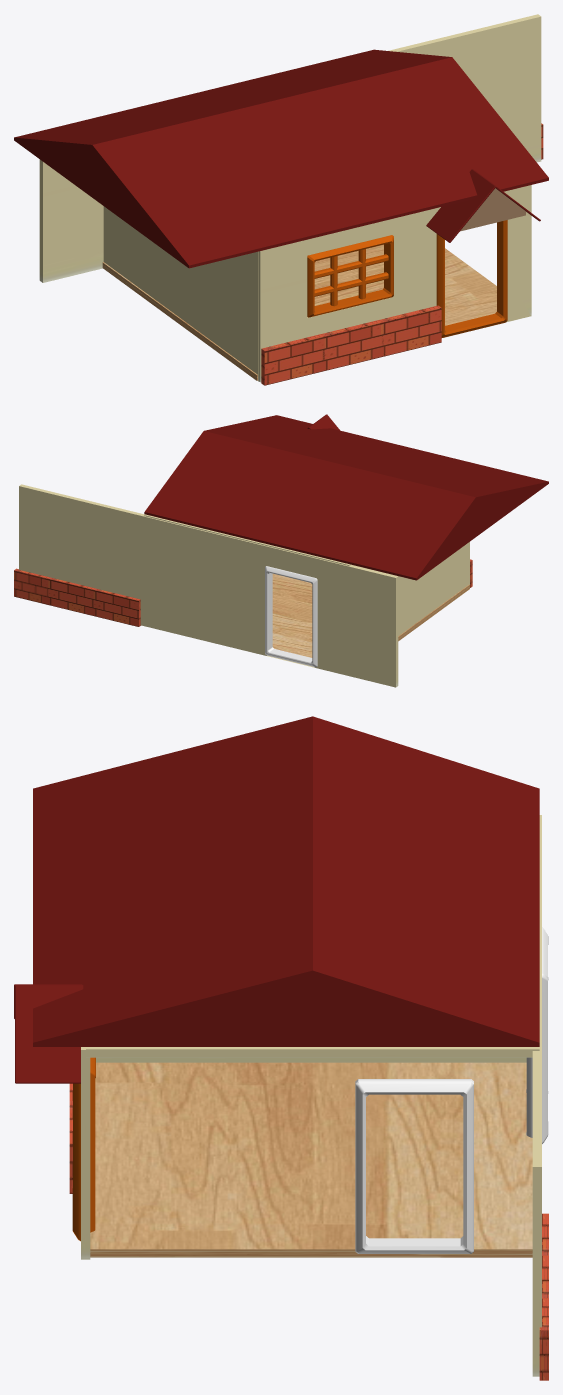
File: casa4.obj
3 views of the same model, one above another, from view 1: azimuth 30°, elevation 25°; view 2: azimuth 150°, elevation 25°; view 3: azimuth 270°, elevation 25° (orthographic). The views are drawn at different scales.
Parts seen in each view (by area): view 1: pasted__pasted__pCube3 pasted__group61 group68, pasted__pCube1 group1, pasted__pCube2 group8, pasted__pCube2 group4, group95_pasted__group73_pasted__pasted__pCube11, pCube3, pCube7, pasted__pCube1 group3, polySurface3 pasted__pasted__polySurface2 group105, pasted__pCube14 group106; view 2: pasted__pasted__pCube3 pasted__group61 group68, pasted__pCube2 group8, pCube3, pasted__pCube2 group4, pasted__pasted__pasted__pCube1 pasted__pasted__group3 pasted__gr, polySurface42 polySurface45, polySurface44 polySurface42, polySurface42 polySurface43, pasted__pCube3 group61; view 3: pasted__pasted__pCube3 pasted__group61 group68, pCube3, pasted__pasted__pCube1 pasted__group3 group7, pasted__pCube3 group61, pasted__pasted__polySurface2 group105 polySurface4, pasted__pCube2 group8, pasted__pCube2 group4, pasted__pCube1 group3, pasted__pCube1 group1, pasted__pasted__pasted__pCube1 pasted__pasted__group3 pasted__gr.
Part boxes in pixels (x1,y1,x2,y2): pasted__pasted__pCube3 pasted__group61 group68: (14,49,548,268); pasted__pCube1 group1: (259,185,531,382); pasted__pCube2 group8: (39,14,541,282); pasted__pCube2 group4: (103,206,258,381); group95_pasted__group73_pasted__pasted__pCube11: (261,305,441,385); pCube3: (102,244,496,380); pCube7: (307,235,393,317); pasted__pCube1 group3: (436,220,507,337); polySurface3 pasted__pasted__polySurface2 group105: (426,169,496,242); pasted__pCube14 group106: (460,188,525,231); pasted__pasted__pCube3 pasted__group61 group68: (144,415,548,580); pasted__pCube2 group8: (19,484,398,687); pCube3: (272,573,469,657); pasted__pCube2 group4: (351,542,469,635); pasted__pasted__pasted__pCube1 pasted__pasted__group3 pasted__gr: (265,566,317,667); polySurface42 polySurface45: (93,588,140,626); polySurface44 polySurface42: (48,577,94,615); polySurface42 polySurface43: (14,568,49,604); pasted__pCube3 group61: (144,514,350,565); pasted__pasted__pCube3 pasted__group61 group68: (33,716,539,1046); pCube3: (90,1062,532,1257); pasted__pasted__pCube1 pasted__group3 group7: (355,1079,473,1253); pasted__pCube3 group61: (86,1047,539,1057); pasted__pasted__polySurface2 group105 polySurface4: (15,985,83,1083); pasted__pCube2 group8: (532,815,541,1376); pasted__pCube2 group4: (96,1057,526,1062); pasted__pCube1 group3: (72,1057,95,1241); pasted__pCube1 group1: (81,1047,90,1259); pasted__pasted__pasted__pCube1 pasted__pasted__group3 pasted__gr: (526,927,548,1143).
Size of the model in its own units: 956 by 346 by 578.
14 materials, 14 textured.
